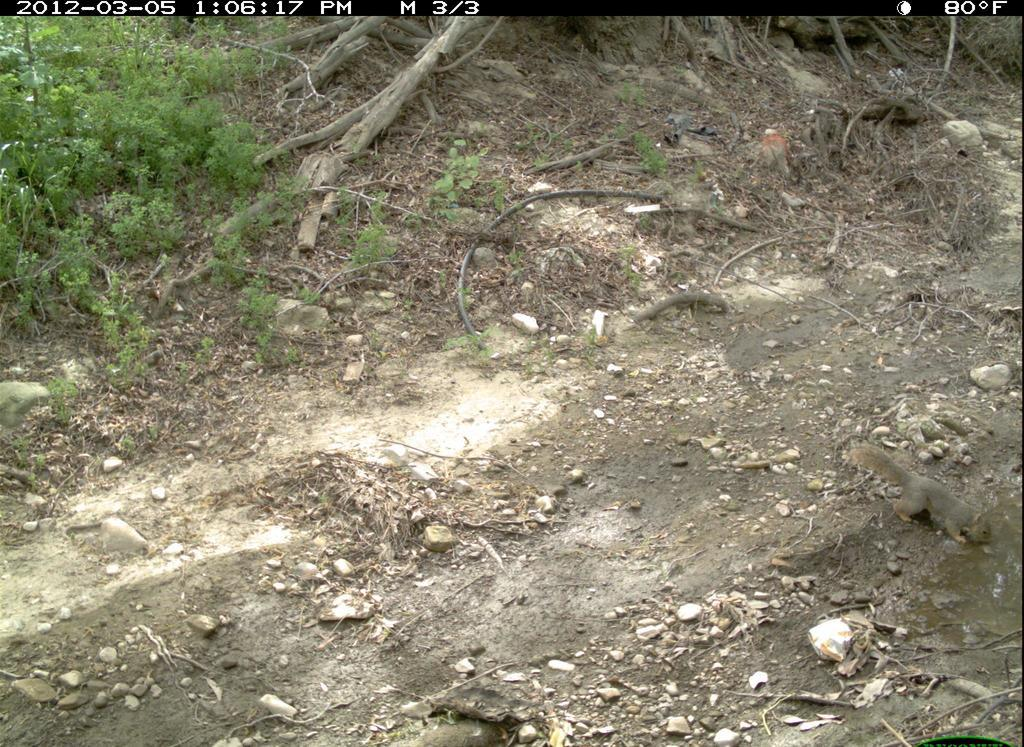squirrel: (844, 422, 995, 562)
